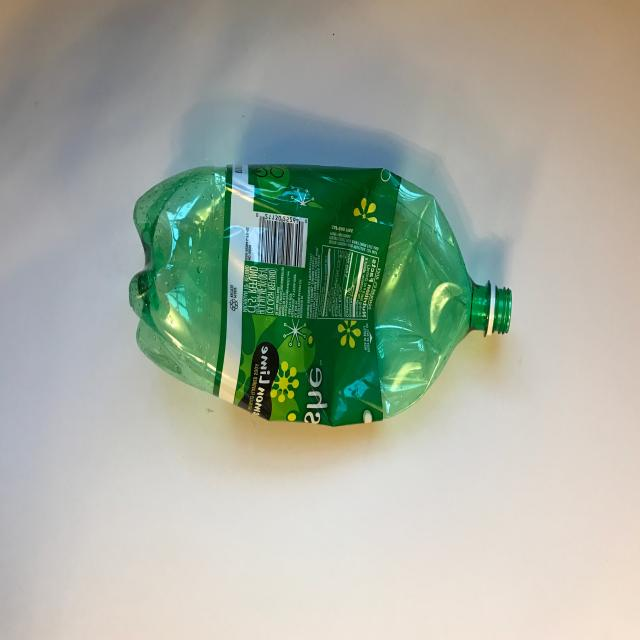plastic: (129, 162, 512, 427)
